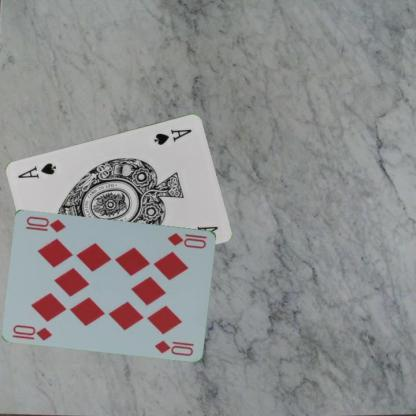10d: (165, 230, 209, 250), (10, 322, 53, 341)
As: (151, 126, 193, 146)
